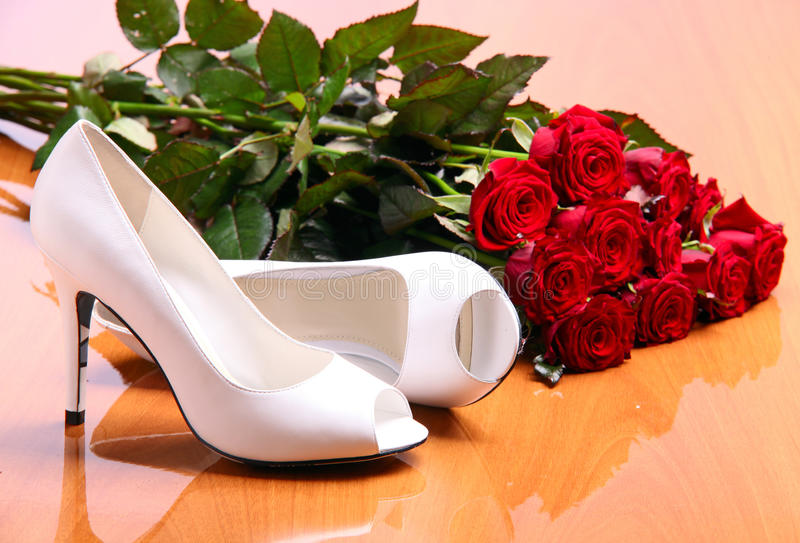RedRose: (544, 99, 641, 219), (469, 145, 560, 259), (512, 213, 593, 320), (550, 277, 640, 369), (709, 219, 794, 308)
